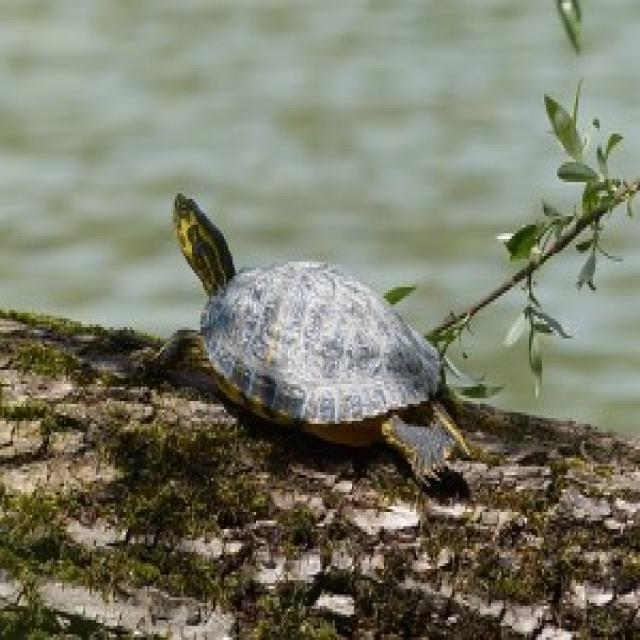Sea turtle: (162, 191, 465, 495)
